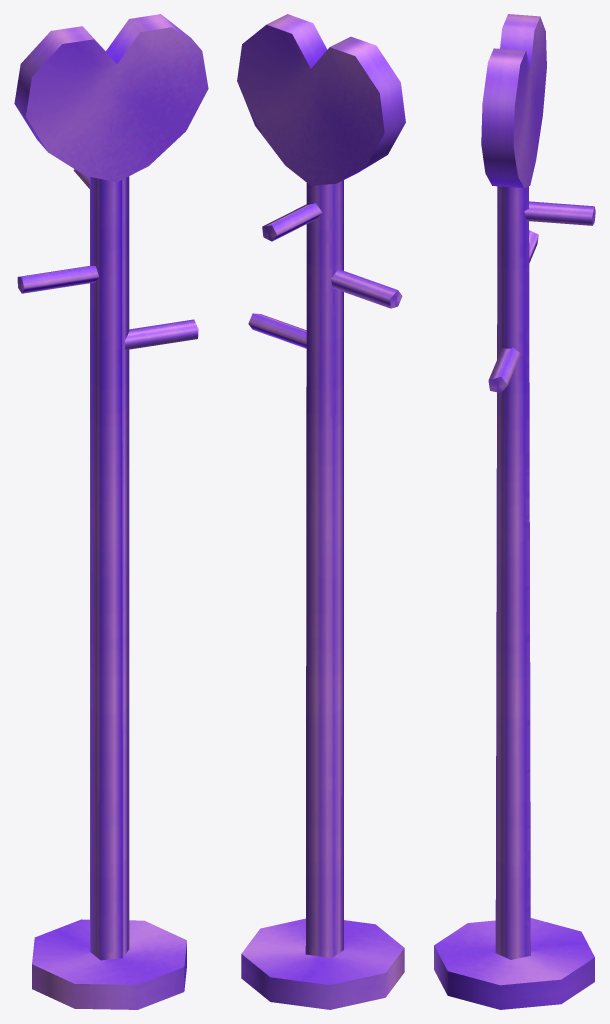
File: furni_0200136_01.FBX
3 views of the same model, side by side, from view 1: azimuth 30°, elevation 25°; view 2: azimuth 150°, elevation 25°; view 3: azimuth 270°, elevation 25° (orthographic).
Parts seen in each view (by area): view 1: furni_0200136_01; view 2: furni_0200136_01; view 3: furni_0200136_01.
Part boxes in pixels (bbox=[...]): furni_0200136_01: bbox=[14, 14, 208, 1009]; furni_0200136_01: bbox=[237, 14, 405, 1009]; furni_0200136_01: bbox=[434, 14, 595, 1009].
Bounding box in the file's own units: 23.96 × 127 × 19.85.
